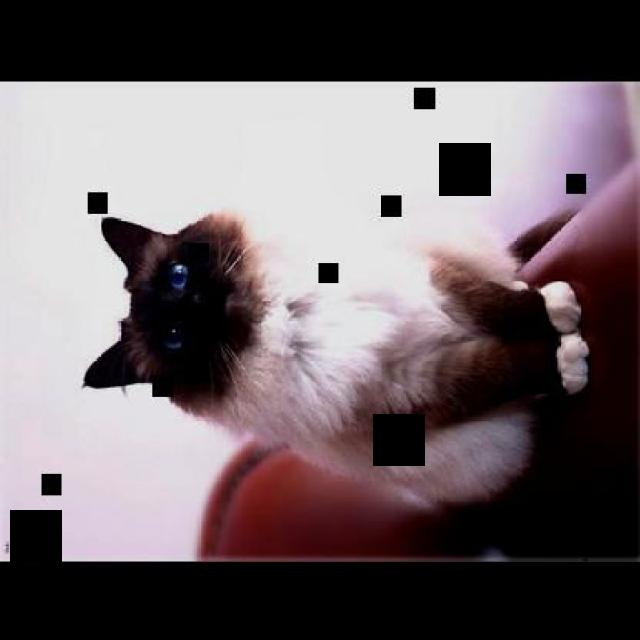unauthorized: (82, 205, 590, 509)
